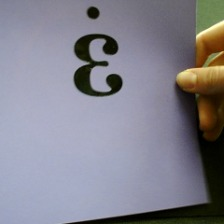violet3: (63, 2, 129, 98)
